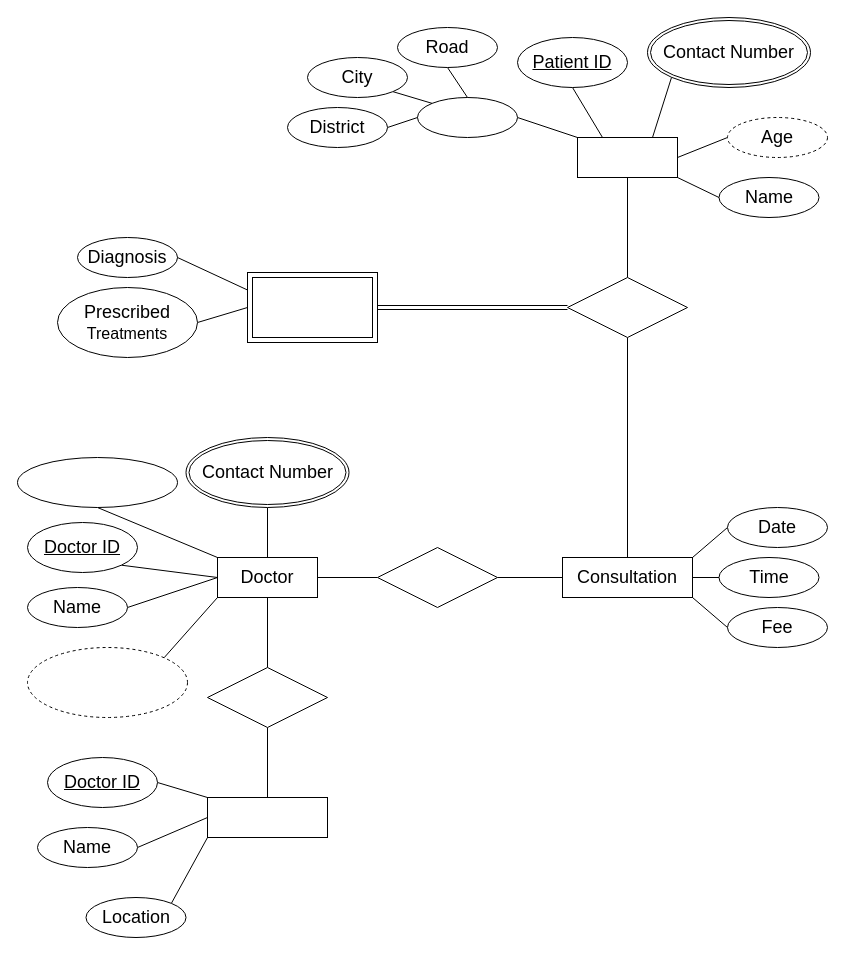
This 845x955 diagram has some shape labels left out. Each missing label, with the centre of its shape:
"Address" goes at pixel 467 117.
"Attends" goes at pixel 627 307.
"Conducts" goes at pixel 437 577.
"Department" goes at pixel 267 817.
"Medical Record" goes at pixel 312 307.
"Patient" goes at pixel 627 157.
"Specialization" goes at pixel 97 482.
"Works for" goes at pixel 267 697.
"Years of Experience" goes at pixel 107 682.
